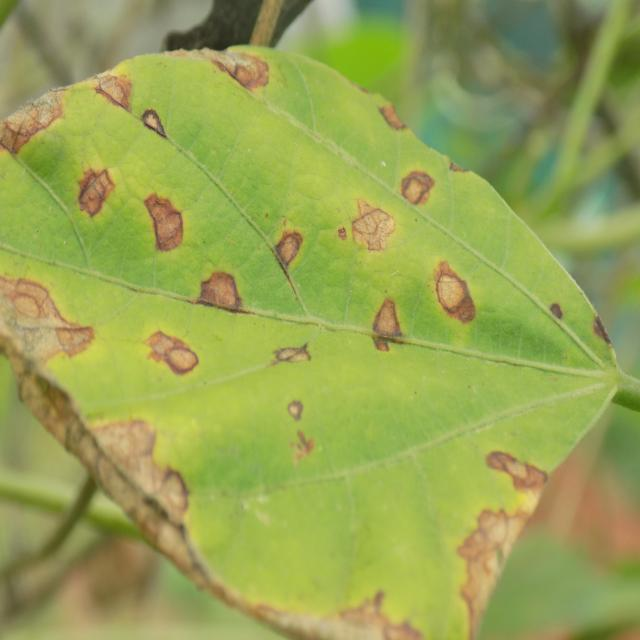Dolicos bean_cercospora leaf spot: (0, 45, 625, 640)
